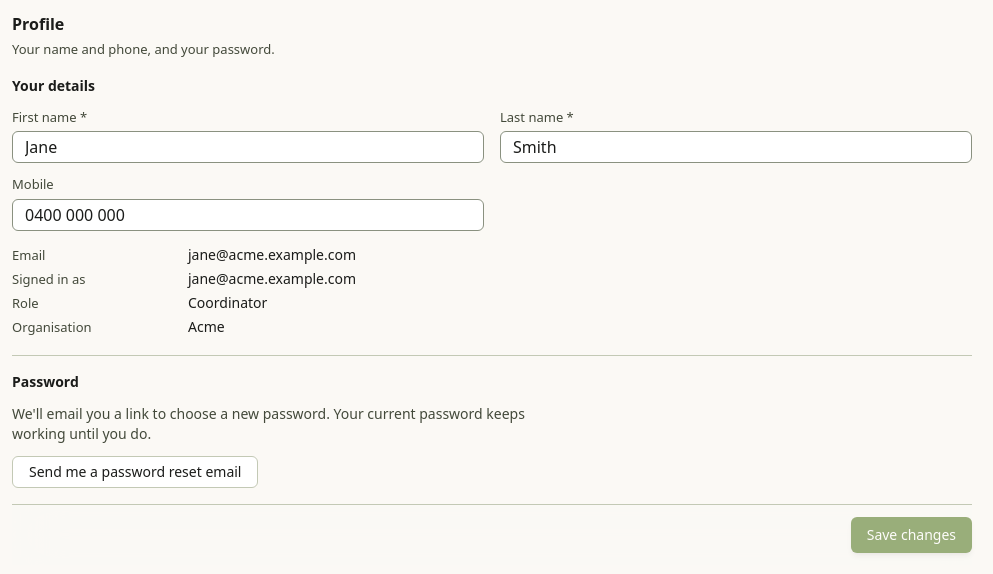
Profile: your details › says why a refused save was refused and keeps what was typed
Step 1. Type "y" into the field labelled "First name *" → (248, 147), box [12,131,484,163]
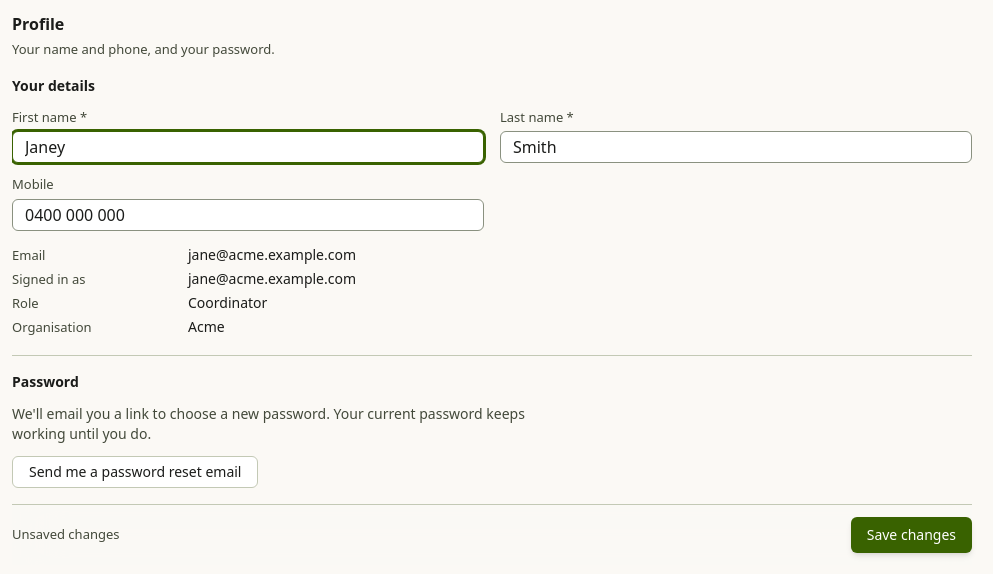
Step 2. Click the button "Save changes" → (911, 534), box [851,516,972,552]
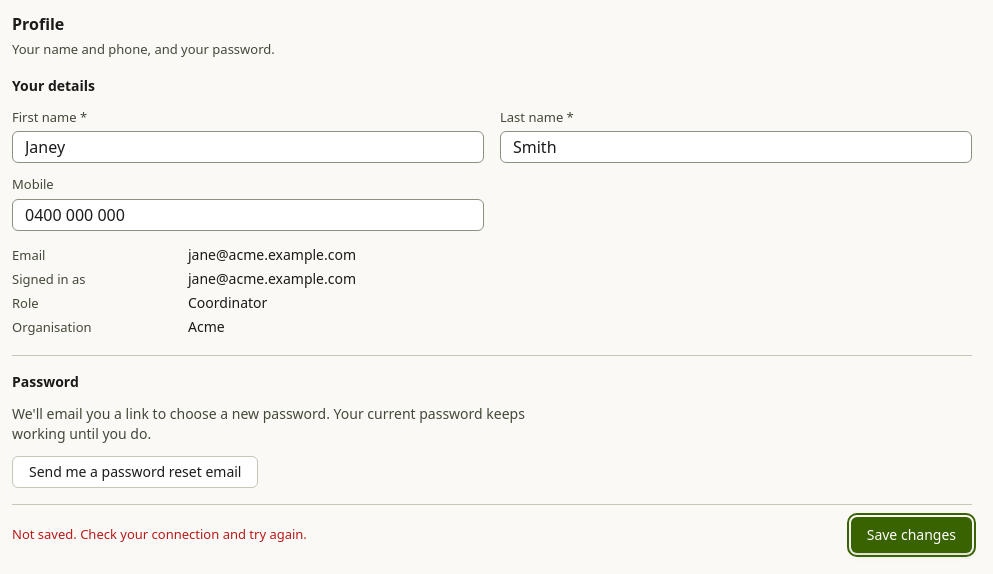
Result: the field labelled "First name *" holds "Janey" at [12,131,484,163]
Result: the message reads "Not saved. Check your connection and try again." at [12,525,307,543]
